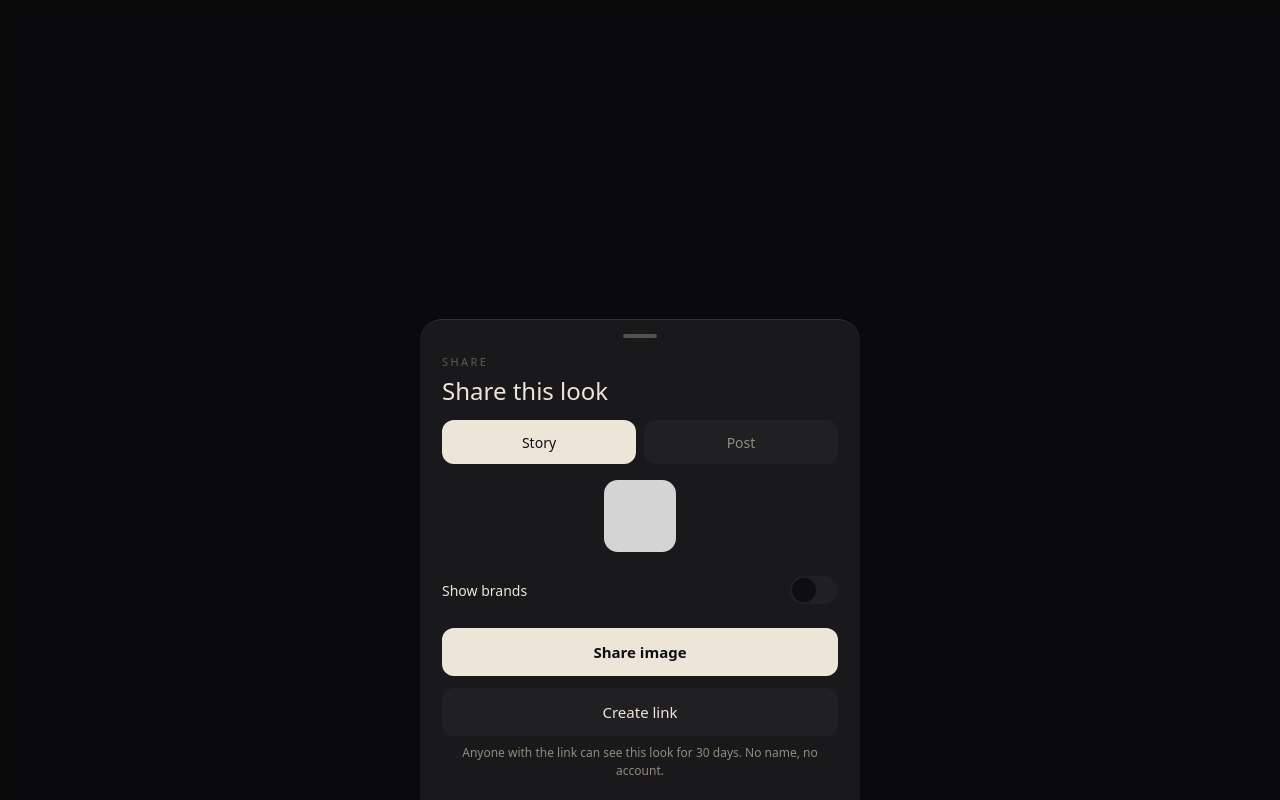
all three uploaded cards use authoritative prepared text when the preview was older
Expected: the button "Share image" is enabled, [442, 628, 838, 676]
What coordinates should you click on to do the following:
click the button "Create link"
I would click on:
 (640, 712)
Its box is [442, 688, 838, 736].
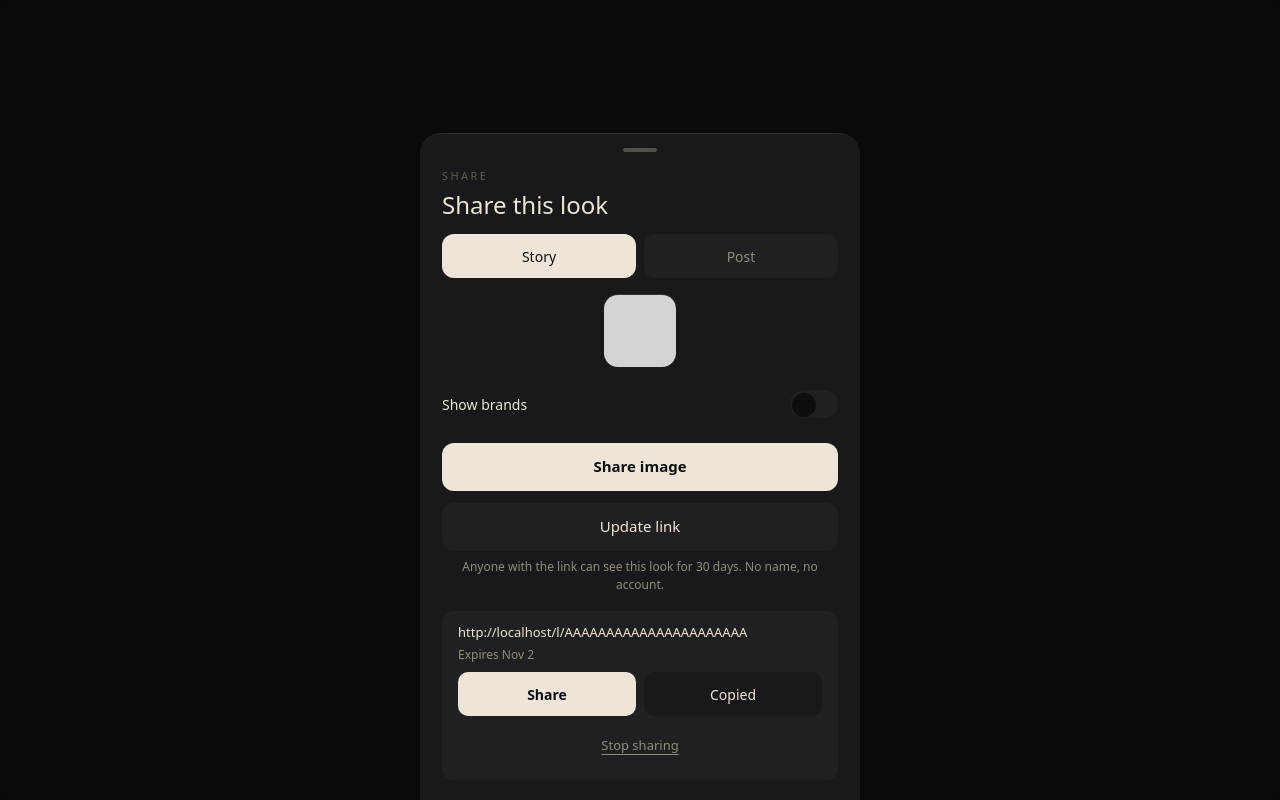
Now the text "http://localhost/l/AAAAAAAAAAAAAAAAAAAAAA" is shown, box [458, 622, 747, 640]
